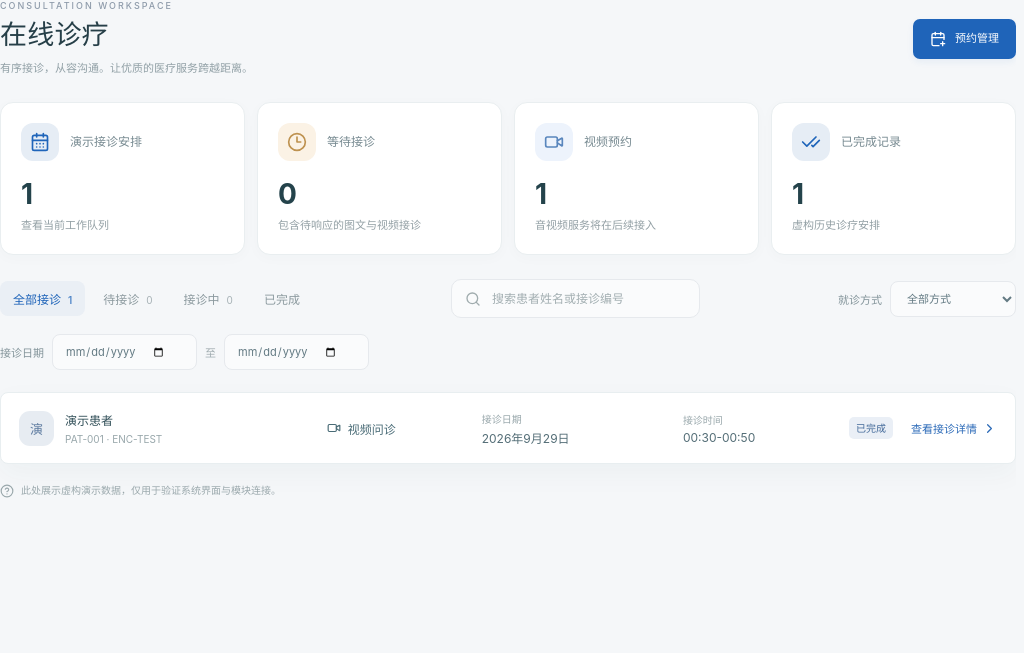
it: export rechecks access and refuses to download stale cached data after denial
Click the button "查看接诊详情": (954, 428) x1=911 y1=415 x2=997 y2=441
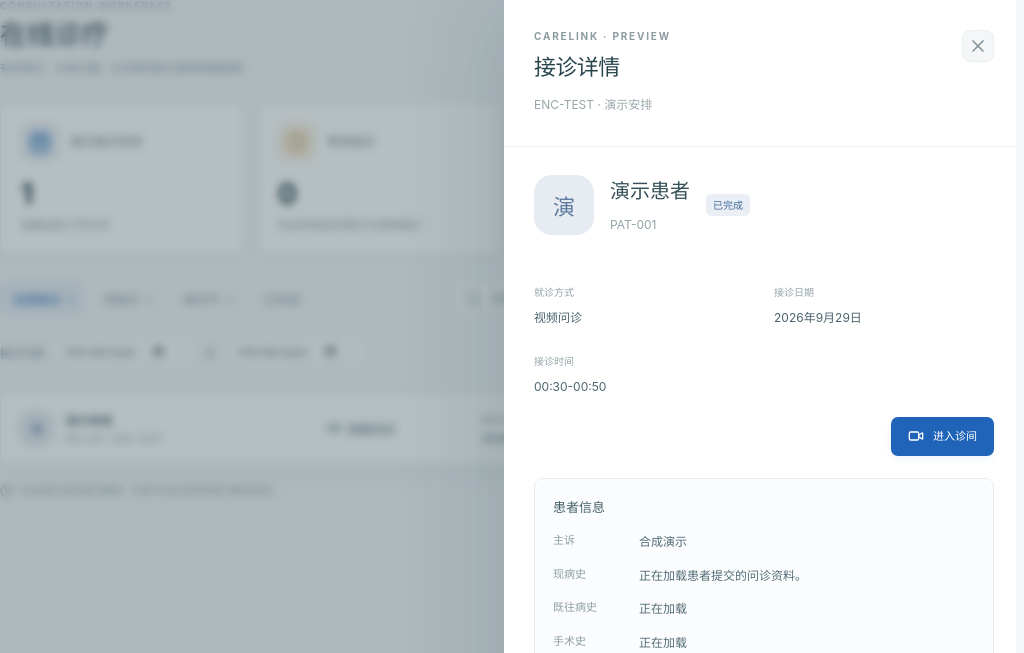
Click the button "进入诊间": (942, 436) x1=891 y1=417 x2=994 y2=456
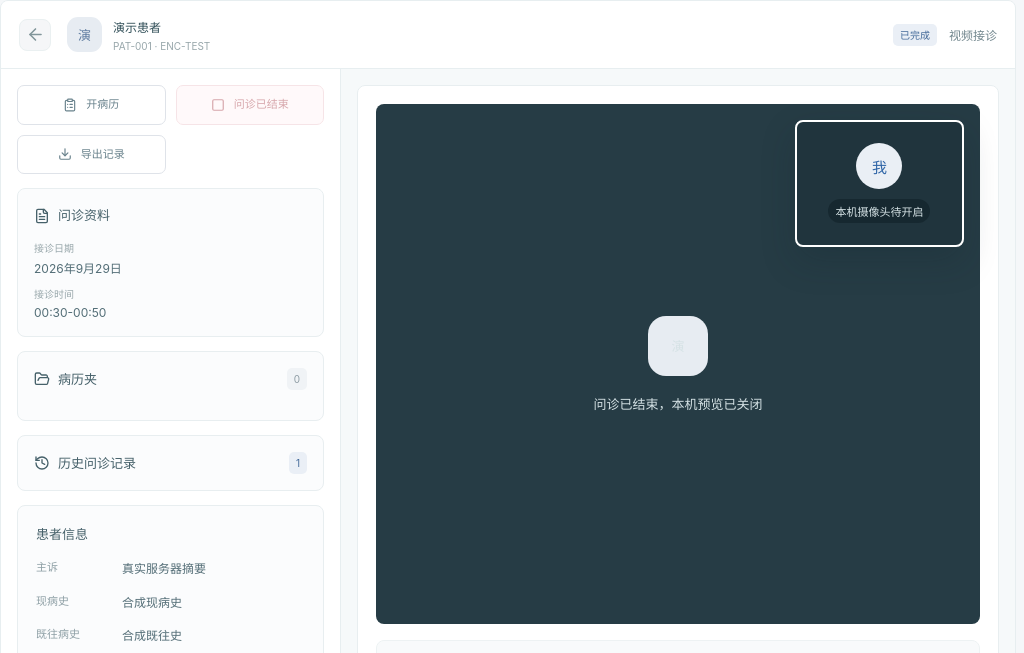
expect the button named "返回接诊列表" is shown: met, box x1=19 y1=18 x2=51 y2=50
expect the text "真实服务器摘要" is shown: met, box x1=122 y1=561 x2=206 y2=576
Click the button "导出记录": (91, 154) x1=17 y1=135 x2=166 y2=174
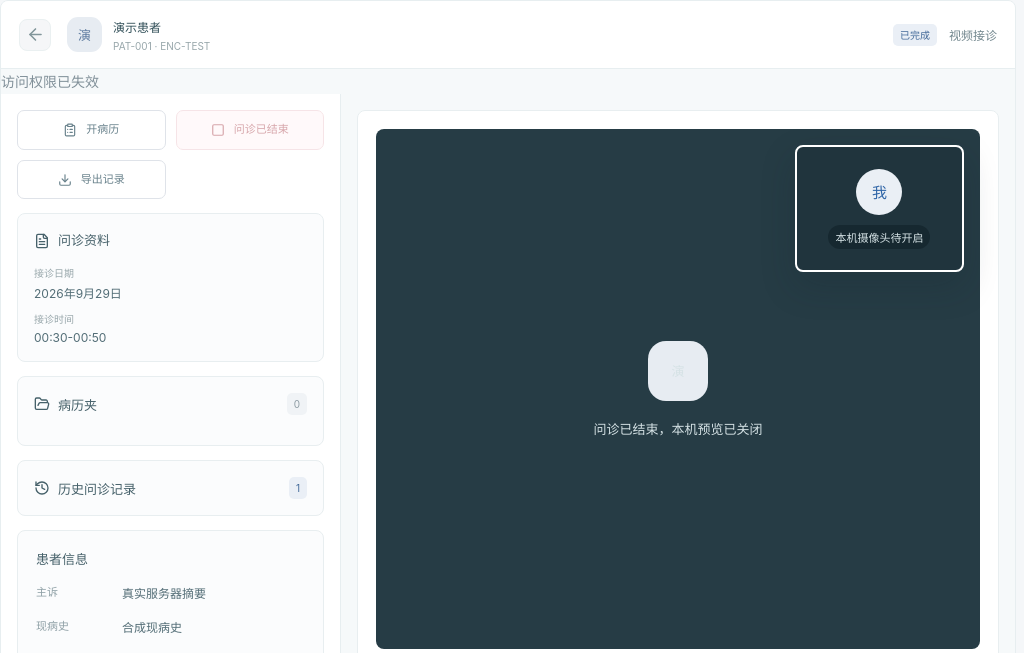
expect the message reads "访问权限已失效": met, box x1=1 y1=73 x2=99 y2=90
